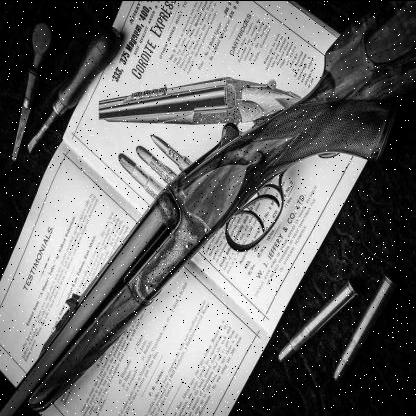rifle: (3, 12, 402, 416)
